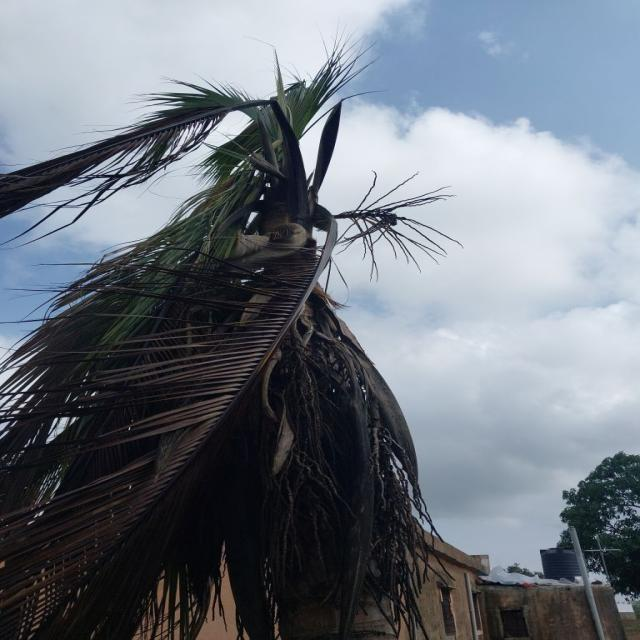bud root dropping: (2, 45, 475, 640)
